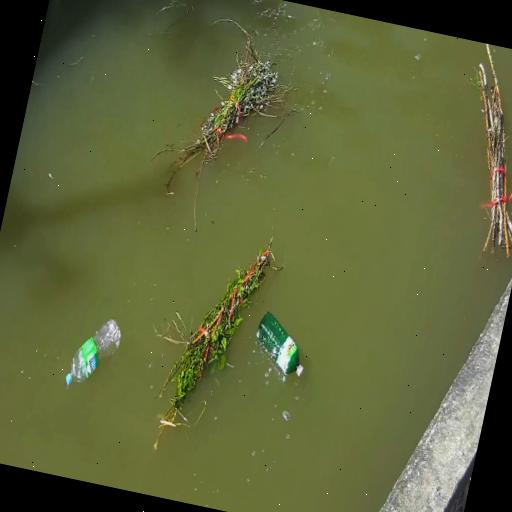plastic: (63, 310, 126, 402), (246, 307, 314, 382)
twig: (152, 230, 276, 433), (441, 50, 512, 255), (189, 49, 280, 173)
